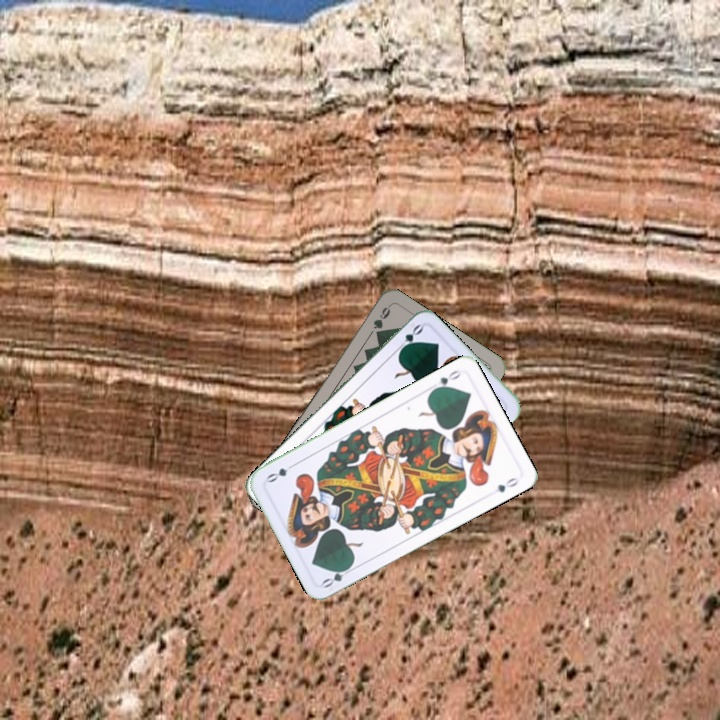G9: (369, 301, 393, 332)
GO: (392, 320, 426, 356), (318, 561, 356, 591), (428, 366, 464, 394)
